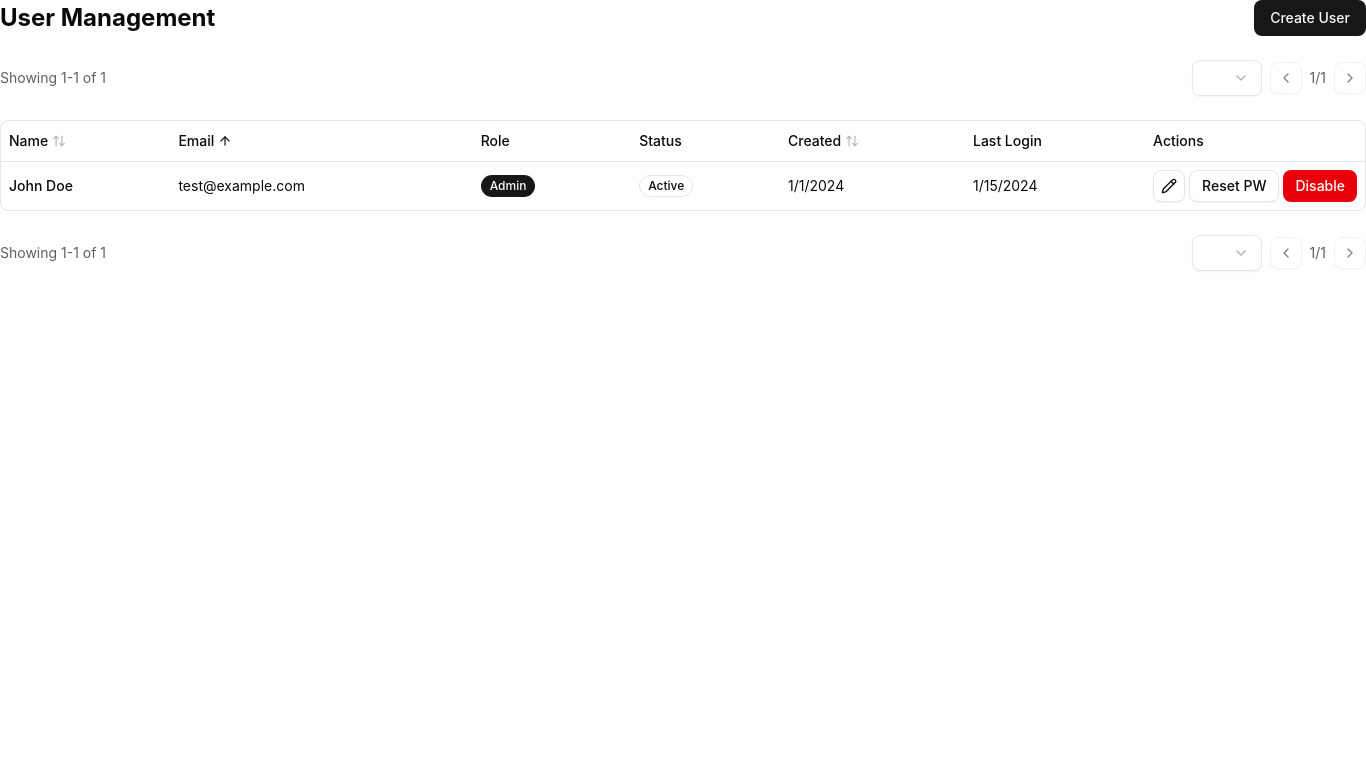
AdminUsers › opens create user dialog when Create User button is clicked
The width and height of the screenshot is (1366, 768).
Step 1. Click the button "Create User" → (1310, 18), box [1254,0,1365,36]
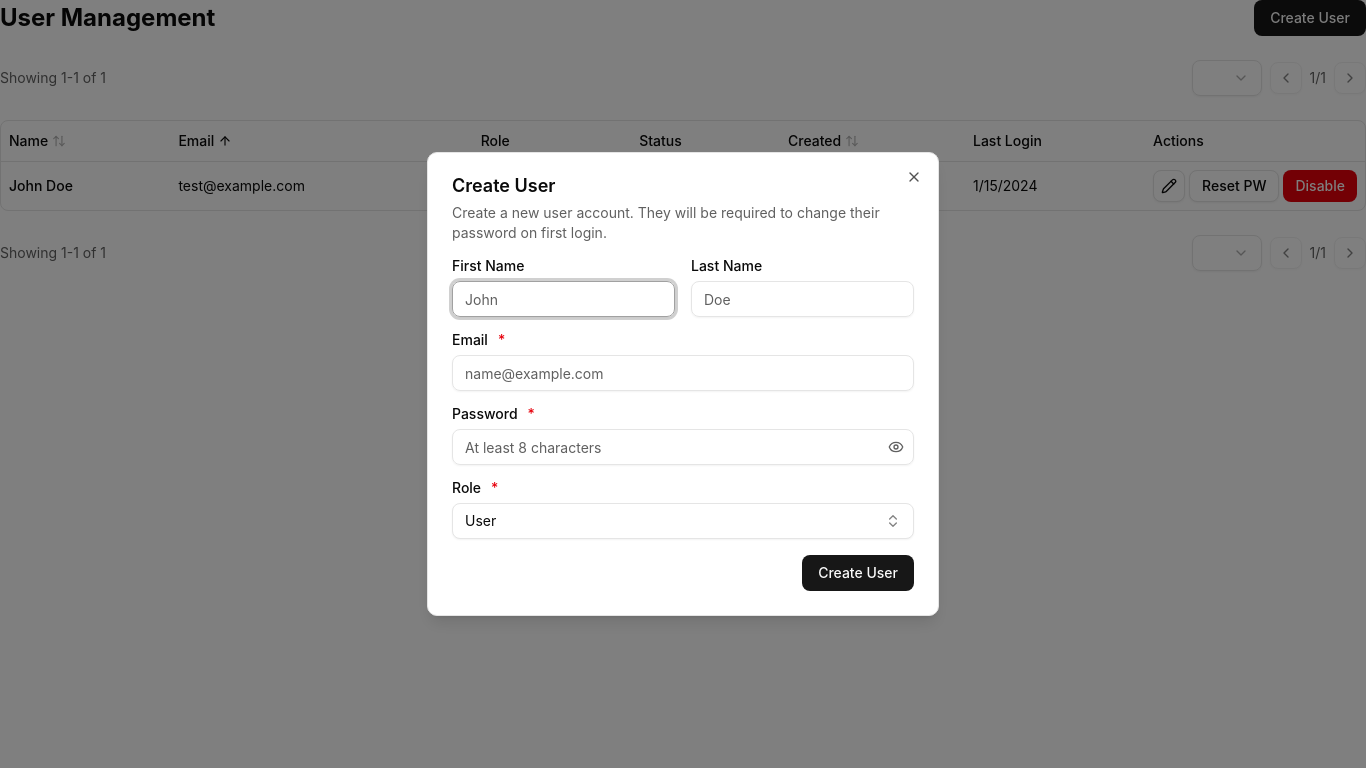
Result: the text "Create a new user account" is shown at [452,204,880,241]
